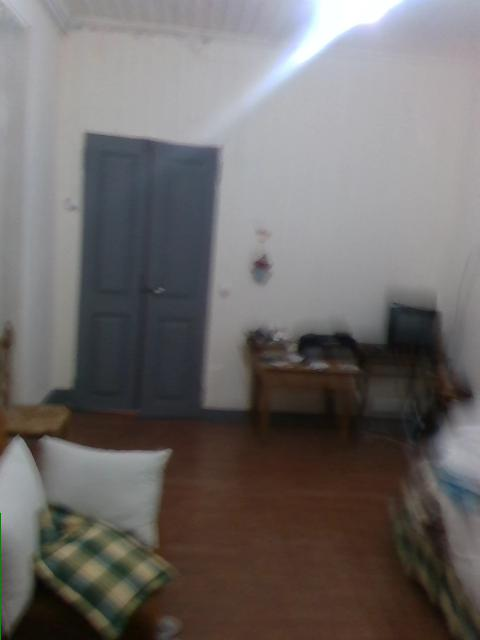door: (73, 131, 219, 418)
